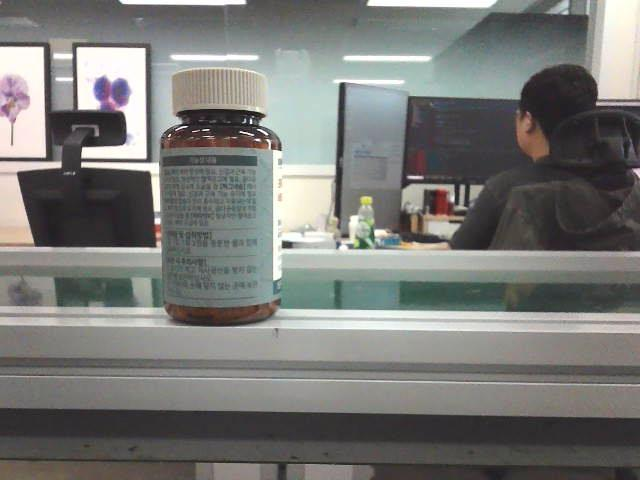labeled: (154, 61, 287, 328)
